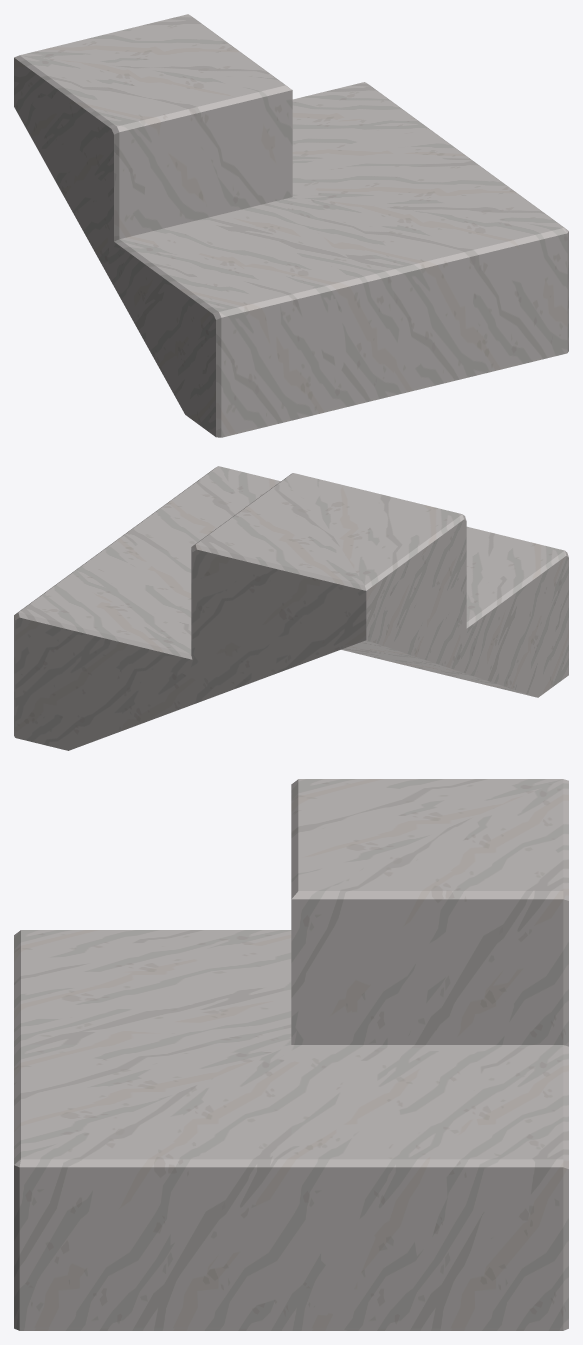
Rendered from SM_Bld_Step_02_Corner_01.fbx.
The picture shows the model from 3 angles, top to bottom: view 1: azimuth 30°, elevation 25°; view 2: azimuth 150°, elevation 25°; view 3: azimuth 270°, elevation 25°; orthographic projection. The views are drawn at different scales.
Parts seen in each view (by area): view 1: SM_Bld_Step_02_Corner_01; view 2: SM_Bld_Step_02_Corner_01; view 3: SM_Bld_Step_02_Corner_01.
Boxes of the visible parts, x1,y1,x2,y2 form: SM_Bld_Step_02_Corner_01: (14, 14, 568, 437); SM_Bld_Step_02_Corner_01: (14, 466, 568, 750); SM_Bld_Step_02_Corner_01: (14, 779, 568, 1330).
Size of the model in its own units: 250 by 159 by 250.
